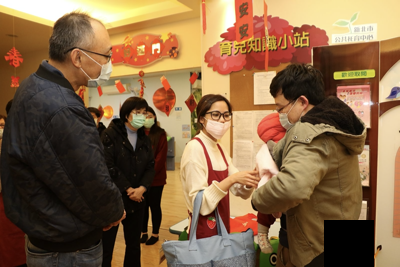with_mask: (82, 43, 113, 89), (205, 109, 232, 139), (276, 102, 302, 131), (131, 111, 147, 131), (145, 114, 155, 131)
